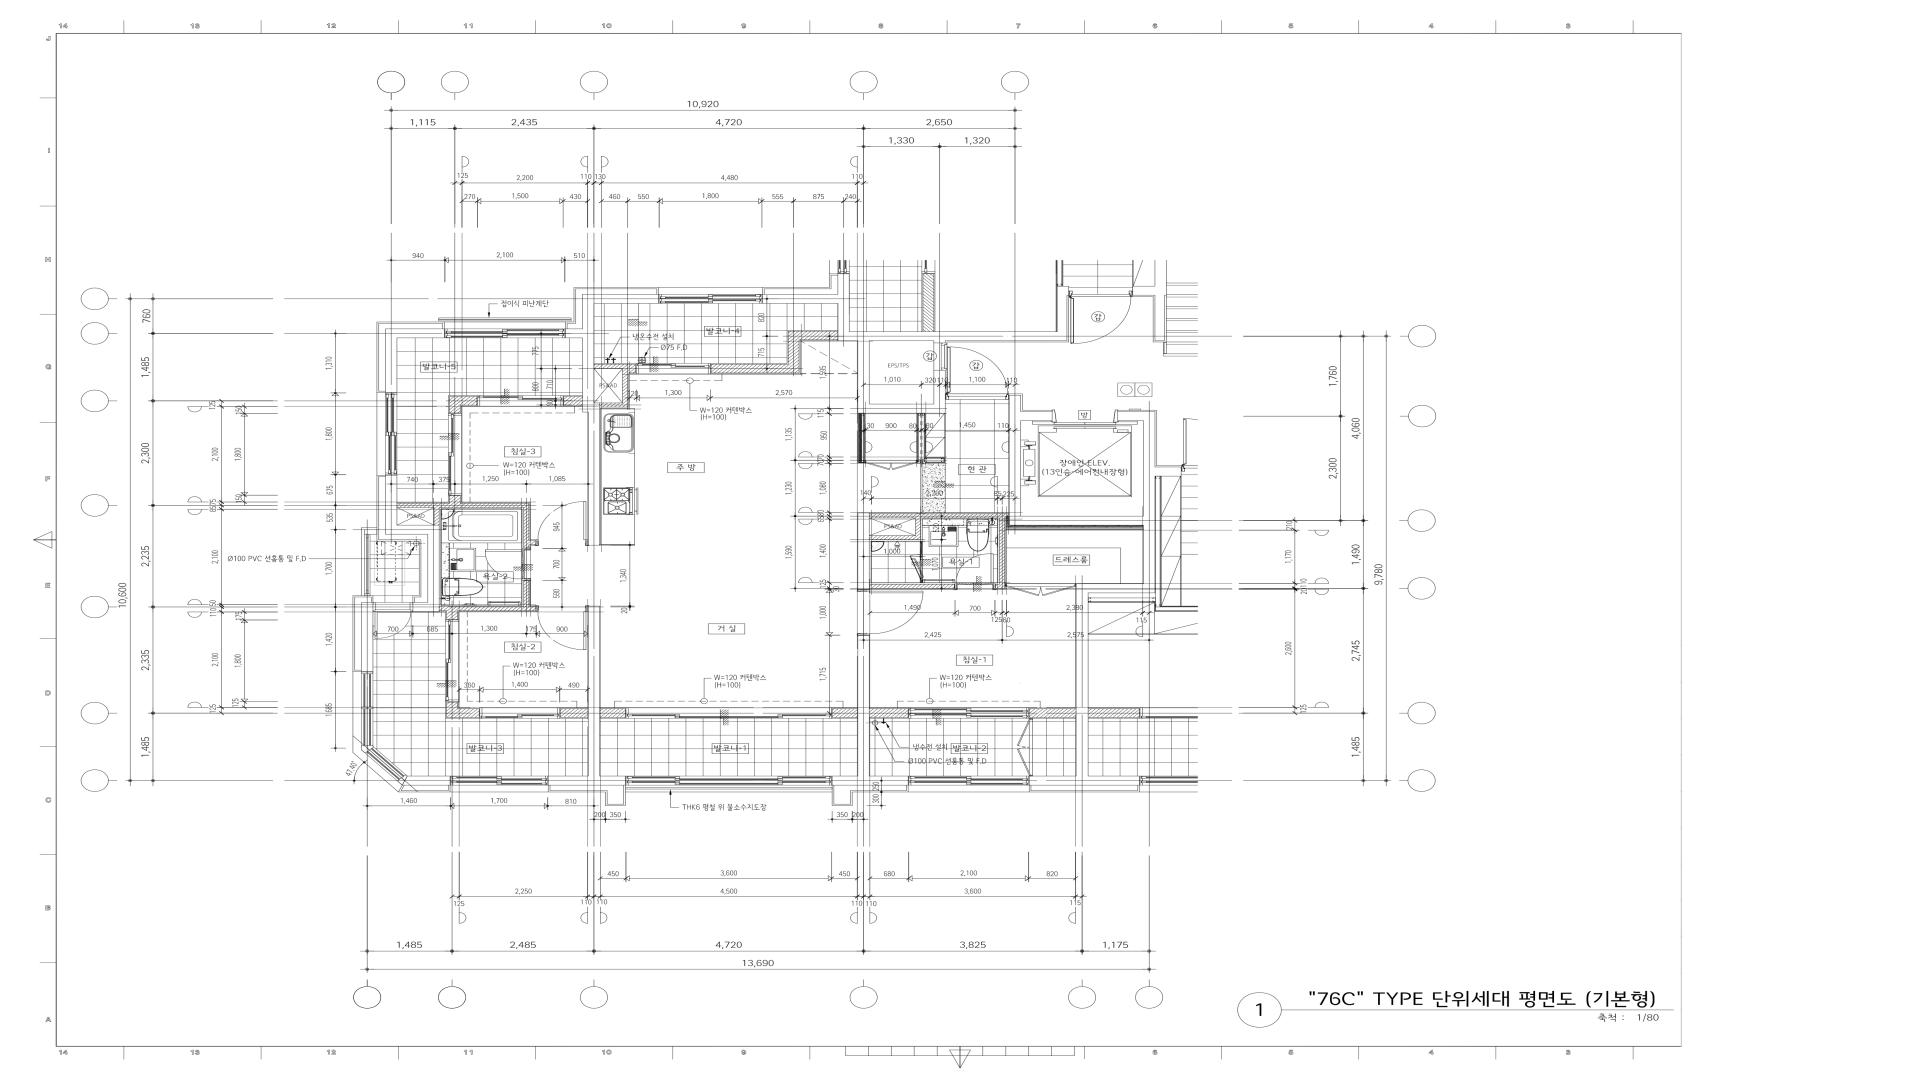door: (945, 347, 1009, 400), (857, 589, 924, 636), (535, 501, 588, 546), (537, 605, 588, 650), (955, 553, 996, 589), (373, 603, 413, 640), (485, 550, 530, 579), (1014, 719, 1033, 775), (916, 413, 926, 514), (864, 456, 916, 471), (934, 343, 945, 371)
wall: (1142, 421, 1156, 583), (1076, 583, 1088, 775), (849, 331, 1056, 342), (588, 607, 600, 775), (857, 636, 870, 775), (588, 404, 600, 546), (582, 303, 595, 411), (1009, 396, 1021, 516), (1009, 516, 1142, 525), (857, 513, 870, 589), (361, 603, 375, 674), (547, 775, 625, 786), (711, 364, 799, 373), (427, 534, 439, 603), (832, 775, 909, 786), (857, 340, 869, 404), (870, 513, 1010, 518), (1056, 286, 1069, 342), (582, 294, 659, 303), (1088, 583, 1155, 593), (857, 404, 934, 413), (385, 475, 397, 534), (397, 502, 529, 508), (762, 294, 837, 303), (385, 338, 397, 393), (1153, 297, 1167, 342), (996, 518, 1005, 588), (1029, 775, 1088, 786), (1029, 707, 1076, 719), (837, 294, 849, 340), (385, 328, 444, 338), (446, 702, 480, 717), (402, 775, 450, 786), (934, 371, 945, 413), (524, 508, 535, 549), (870, 707, 909, 719), (789, 331, 837, 340), (450, 397, 477, 413), (397, 525, 439, 534), (439, 607, 535, 611), (1133, 286, 1167, 297), (1118, 411, 1156, 421), (870, 584, 955, 588), (857, 413, 864, 463), (560, 707, 588, 719), (600, 707, 626, 719), (832, 707, 857, 719), (1021, 411, 1052, 421), (789, 340, 799, 364), (413, 603, 439, 612), (870, 535, 915, 541), (563, 396, 582, 406), (595, 364, 628, 369), (622, 369, 628, 402), (564, 328, 582, 338), (600, 402, 628, 407), (524, 580, 529, 607), (915, 518, 920, 541), (446, 611, 458, 620), (361, 745, 373, 753), (434, 508, 439, 525), (600, 543, 634, 546), (450, 496, 460, 504), (628, 364, 636, 373), (926, 458, 944, 462), (364, 530, 377, 534), (371, 534, 377, 541), (920, 541, 923, 554), (934, 342, 945, 343), (522, 549, 530, 550), (522, 579, 530, 580)
window: (625, 707, 832, 719), (625, 775, 832, 786), (365, 746, 407, 786), (909, 707, 1029, 719), (909, 775, 1029, 786), (446, 620, 460, 702), (444, 328, 566, 338), (448, 413, 462, 496), (450, 775, 549, 786), (385, 393, 397, 475), (479, 707, 560, 719), (659, 294, 762, 303), (477, 396, 563, 406), (636, 363, 711, 375), (361, 674, 373, 745), (364, 534, 371, 596)
